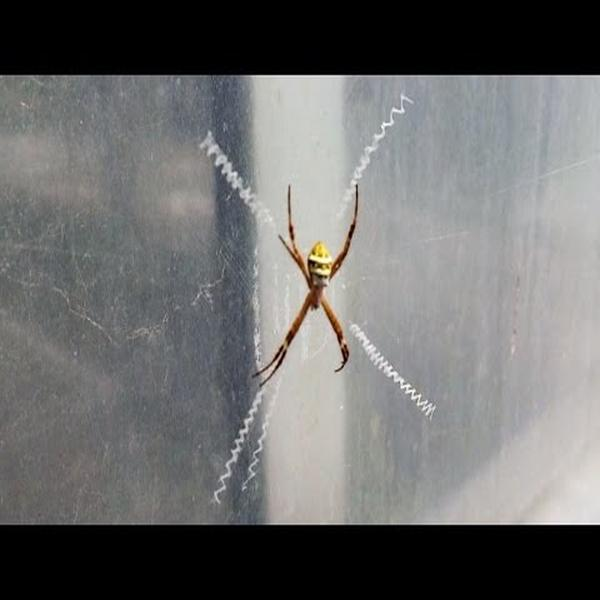St Andrew's Cross Spider: (257, 184, 360, 379)
